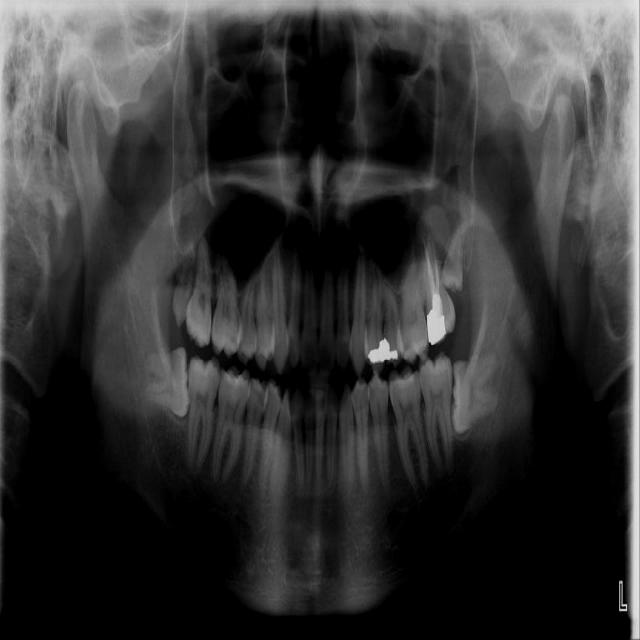Filling: (366, 336, 401, 362), (224, 370, 248, 388)
Root Canal Treatment: (429, 238, 439, 293), (424, 241, 432, 292)
impacted tooth: (450, 352, 501, 429), (133, 347, 190, 413), (439, 222, 467, 290)
